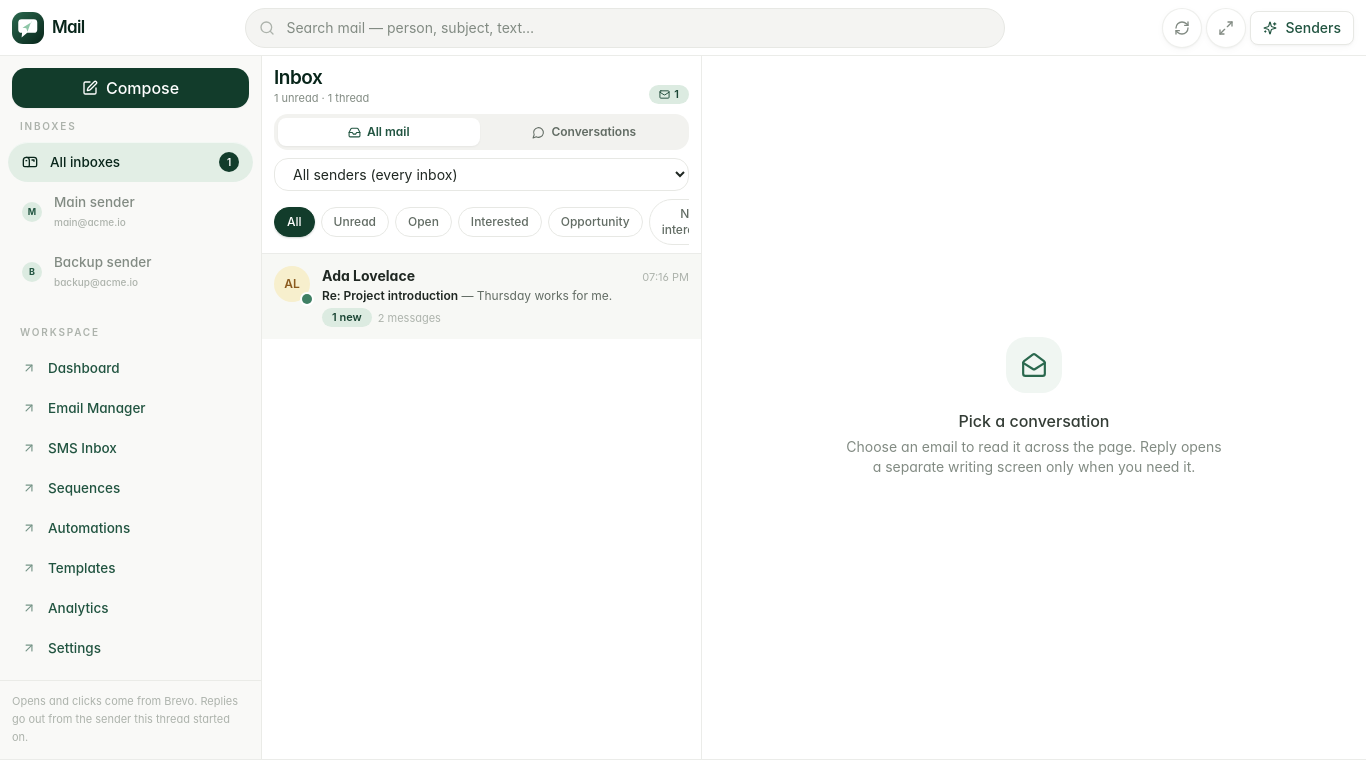
EmailInboxPage — reading first, reply on its own page › opens a full-page reply with the actual recipient and a deep link back to this thread
Click the button "Ada Lovelace" at coordinates (482, 297), box [262,254,701,339]
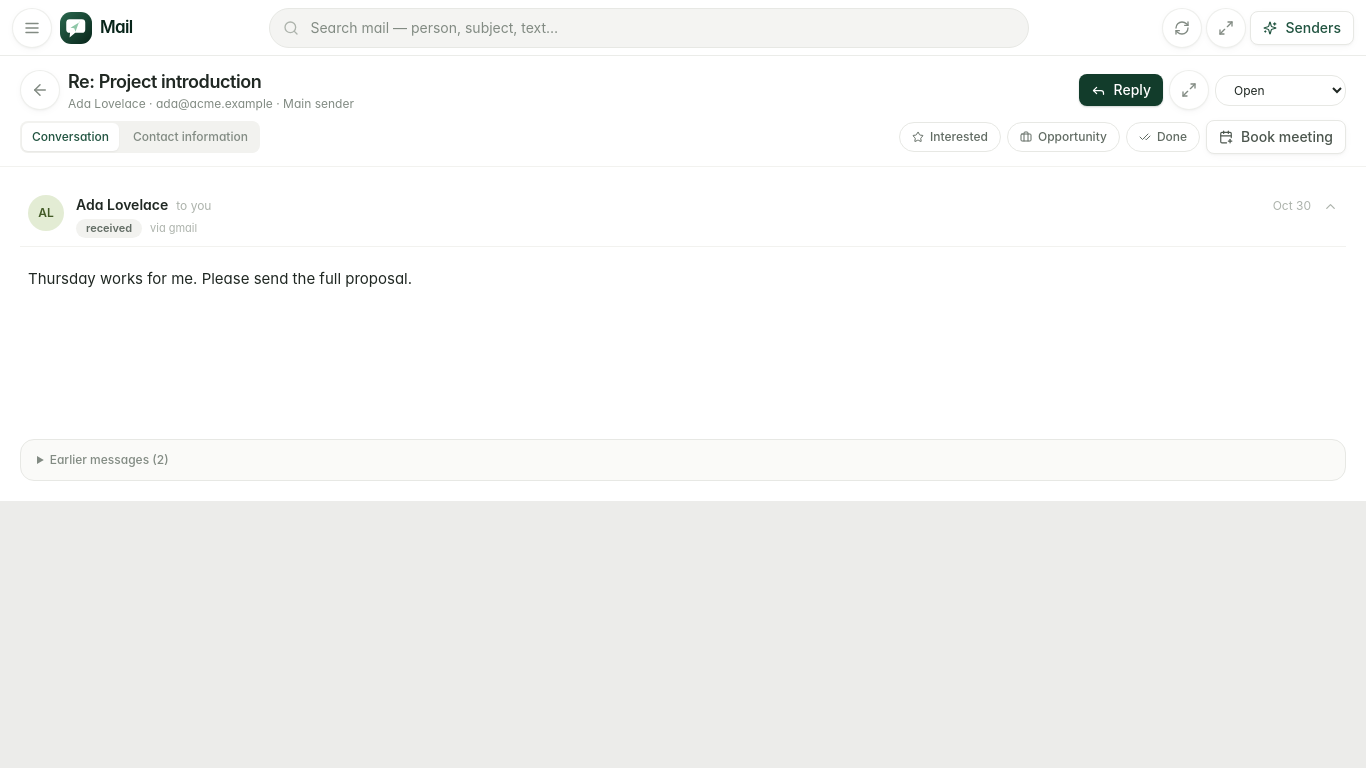
Click the button "Reply" at coordinates (1121, 90), box [1079,74,1163,106]
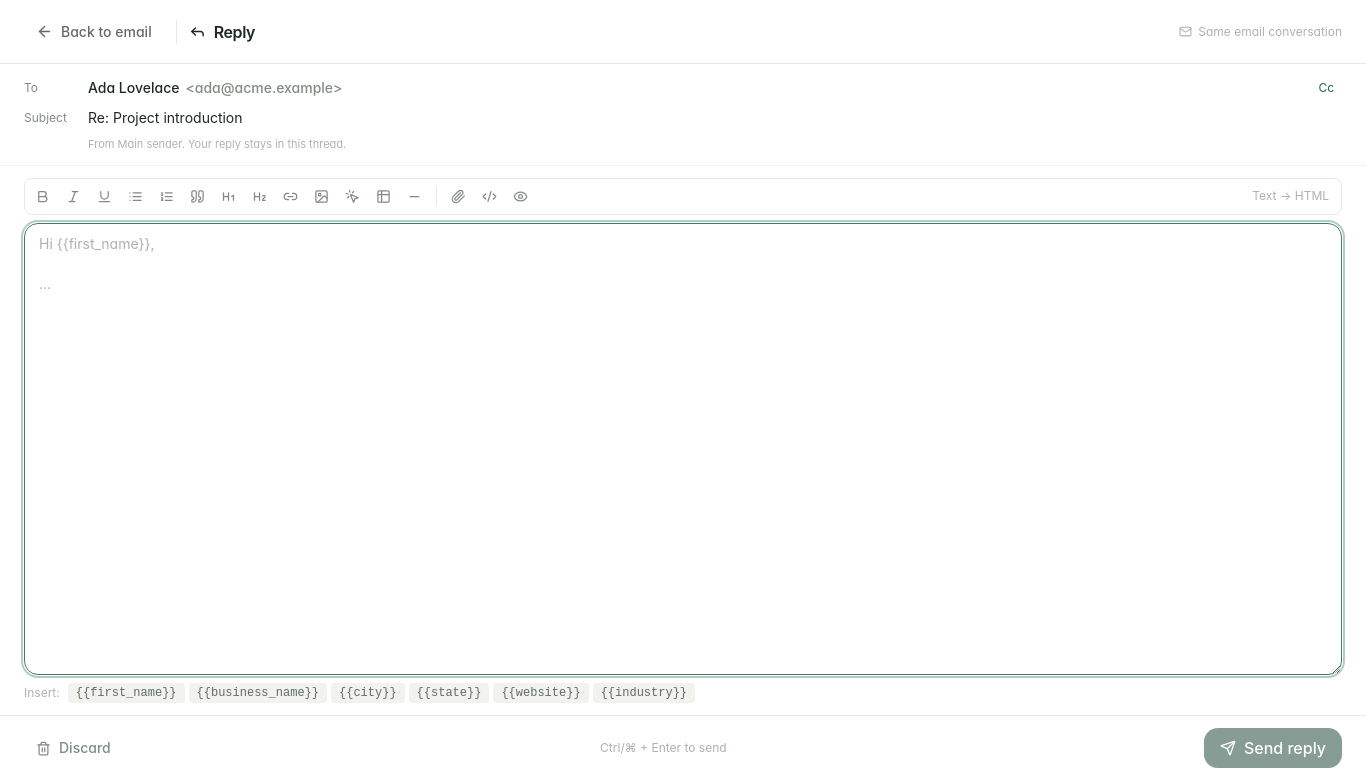
expect the element named "Reply page" is shown: met
expect the heading "Reply" is shown: met, box [189,20,255,44]
expect the element titled "ada@acme.example" is shown: met, box [195,79,333,96]
